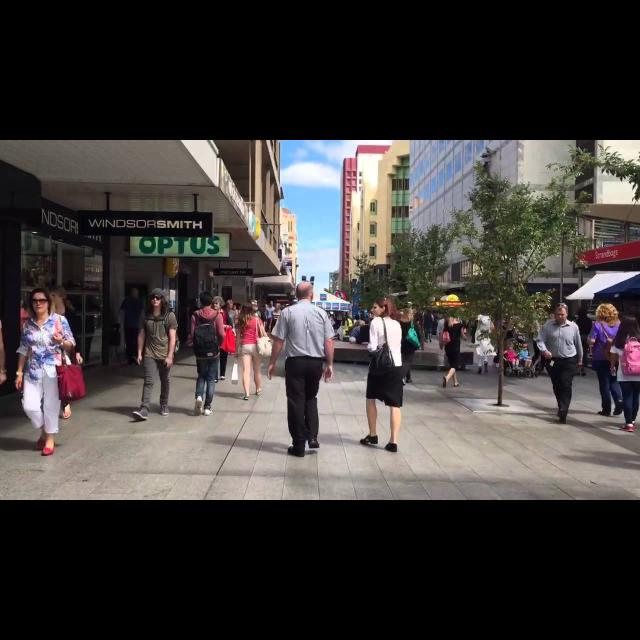head: (491, 314, 519, 368), (30, 290, 50, 314), (371, 298, 391, 318), (46, 286, 64, 308), (296, 281, 314, 303), (553, 303, 569, 325), (199, 291, 215, 309), (598, 304, 616, 320), (150, 289, 164, 307), (624, 316, 638, 330), (212, 298, 224, 310), (242, 304, 254, 316), (404, 306, 414, 318), (130, 288, 140, 298), (250, 300, 258, 310), (479, 306, 489, 314), (536, 310, 544, 320), (450, 312, 458, 321), (520, 317, 528, 325), (579, 308, 587, 316), (227, 301, 233, 311), (275, 303, 281, 311), (360, 306, 366, 314), (442, 313, 450, 319), (508, 343, 514, 351), (522, 343, 528, 351), (232, 305, 238, 311), (360, 321, 366, 327), (355, 315, 361, 321), (270, 301, 274, 307), (428, 308, 432, 314), (342, 317, 346, 321)
person: (266, 278, 338, 460), (14, 284, 88, 458), (357, 295, 407, 453), (32, 281, 84, 421), (130, 286, 182, 422), (535, 302, 585, 426), (185, 290, 227, 418), (586, 302, 628, 418), (230, 302, 274, 402), (204, 294, 238, 384), (438, 308, 470, 388), (118, 284, 148, 366), (395, 305, 423, 387), (469, 303, 498, 375), (572, 304, 594, 378), (244, 298, 268, 362), (491, 314, 519, 368), (526, 308, 548, 372), (220, 298, 238, 358), (514, 315, 532, 373), (436, 312, 456, 362), (269, 302, 287, 348), (349, 320, 369, 358), (502, 341, 522, 371), (229, 303, 243, 341), (422, 306, 436, 342), (356, 304, 369, 340), (264, 301, 276, 339), (519, 342, 533, 371), (340, 316, 350, 342), (353, 314, 363, 338)
